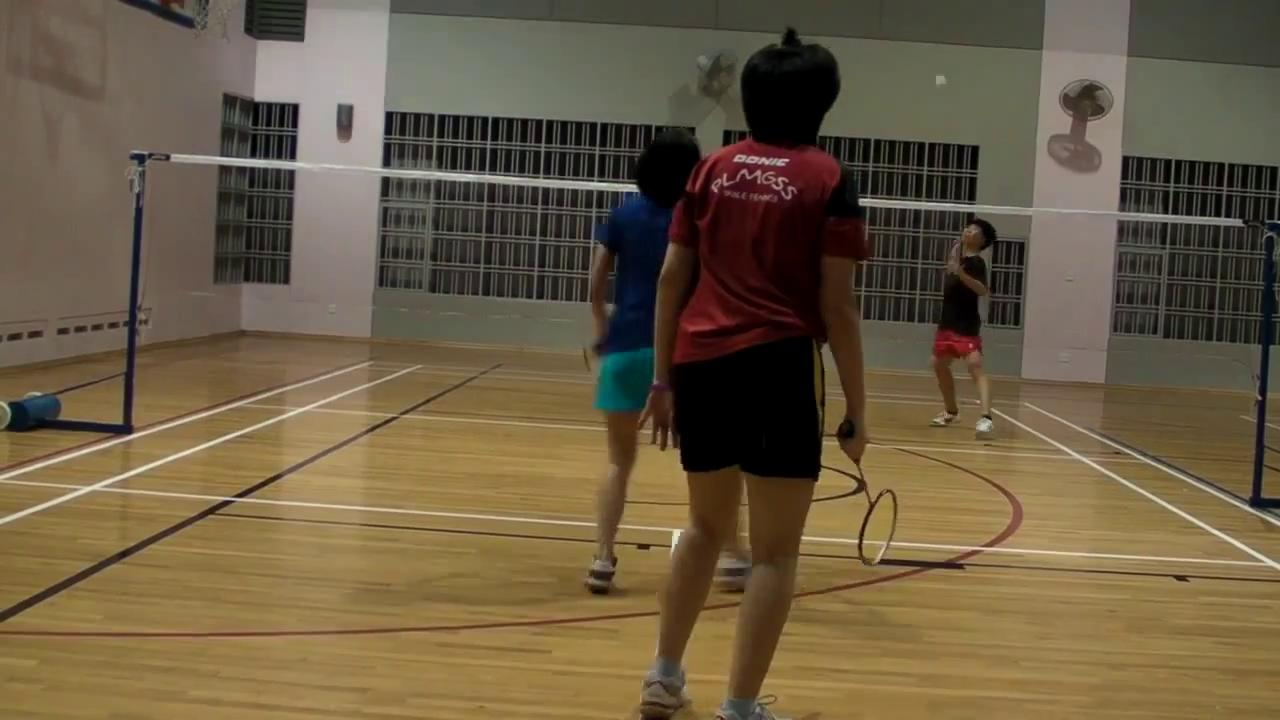victim: (632, 26, 878, 717), (580, 131, 760, 604), (920, 217, 1004, 446)
